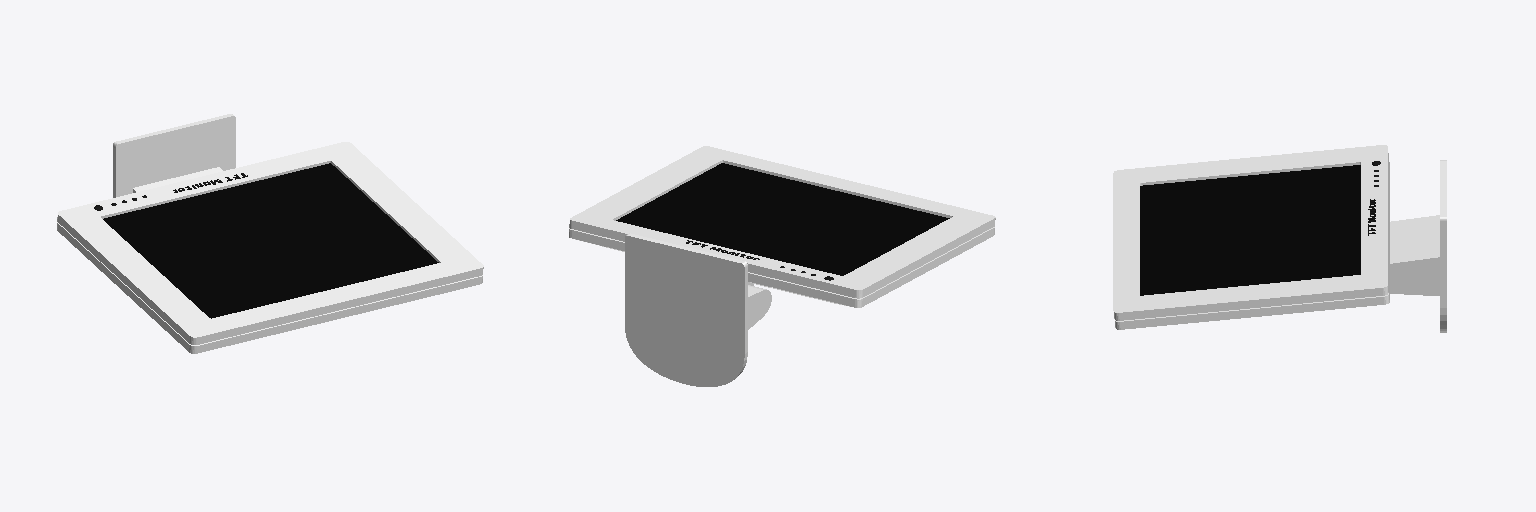
The model's file is cmp001.obj.
3 renders of one model, left to right at view 1: azimuth 30°, elevation 25°; view 2: azimuth 150°, elevation 25°; view 3: azimuth 270°, elevation 25°, orthographic.
Parts seen in each view (by area): view 1: Rectangle0, Rectangle5, Rectangle2, Rectangle3; view 2: Rectangle0, Rectangle2, Rectangle5, Rectangle3, Rectangle1; view 3: Rectangle0, Rectangle5, Rectangle1, Rectangle3, Rectangle2.
Boxes of the visible parts, x1=… form: Rectangle0: x1=103, y1=163, x2=438, y2=318; Rectangle5: x1=57, y1=142, x2=483, y2=344; Rectangle2: x1=113, y1=114, x2=235, y2=197; Rectangle3: x1=57, y1=222, x2=482, y2=353; Rectangle0: x1=616, y1=163, x2=949, y2=275; Rectangle2: x1=625, y1=233, x2=747, y2=386; Rectangle5: x1=569, y1=146, x2=995, y2=298; Rectangle3: x1=569, y1=227, x2=994, y2=307; Rectangle1: x1=748, y1=285, x2=771, y2=329; Rectangle0: x1=1140, y1=165, x2=1360, y2=295; Rectangle5: x1=1113, y1=145, x2=1388, y2=320; Rectangle1: x1=1390, y1=215, x2=1439, y2=295; Rectangle3: x1=1115, y1=162, x2=1389, y2=329; Rectangle2: x1=1440, y1=160, x2=1446, y2=332.
Size of the model in its own units: 380 by 167 by 374.